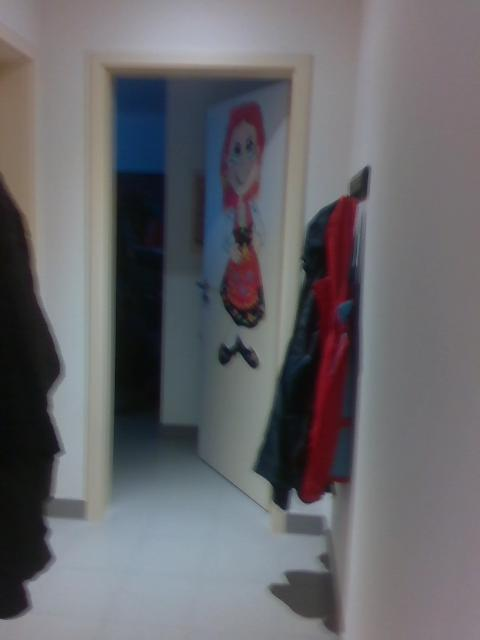semi_door: (80, 47, 317, 534)
